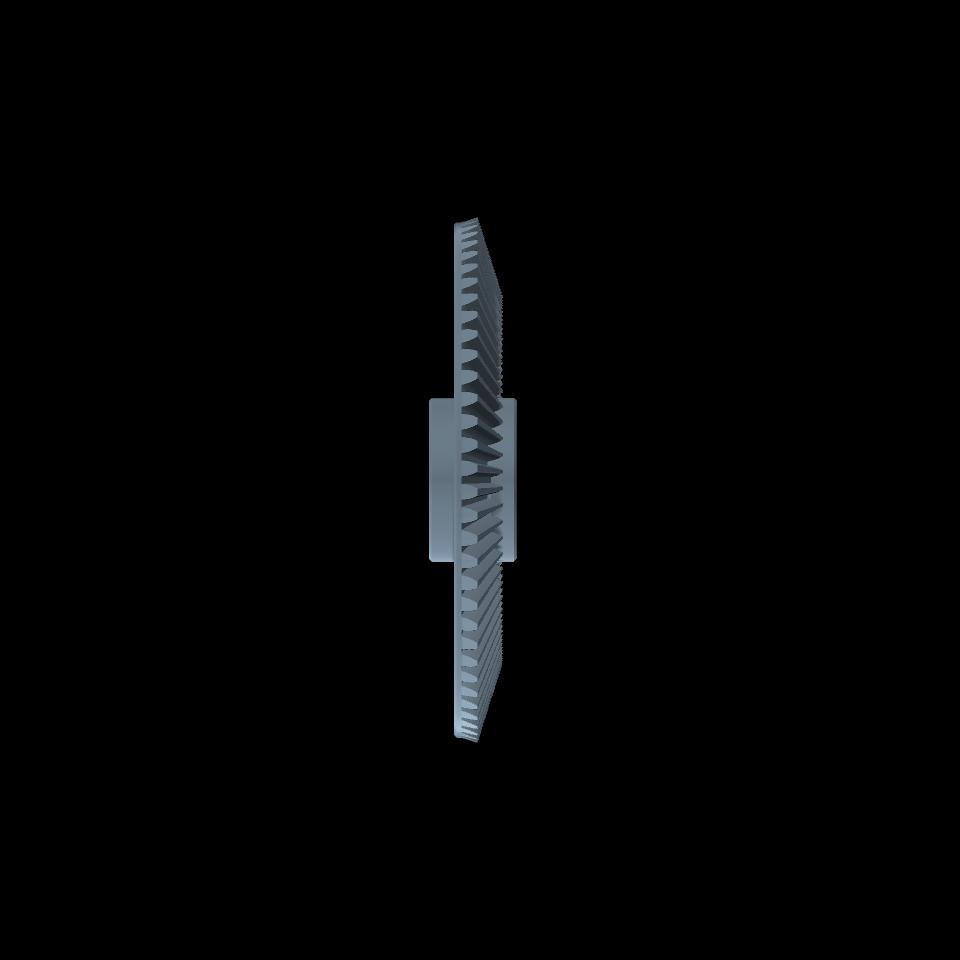Bevel: (455, 215, 503, 741)
